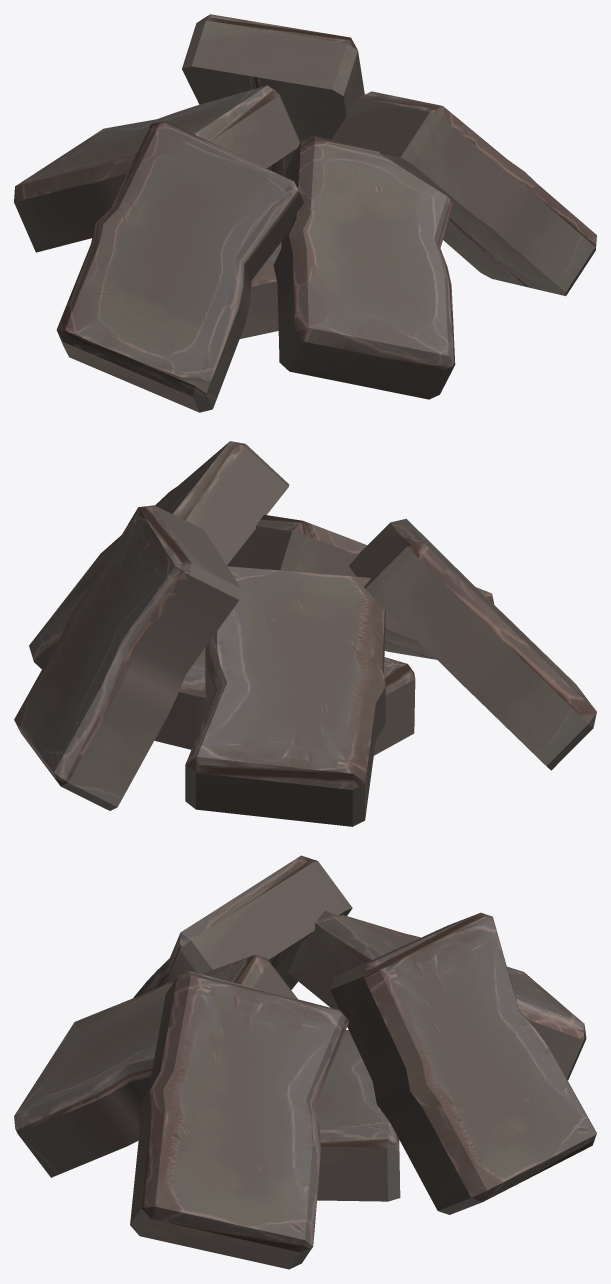
File: BrickSmallPile1.fbx
3 renders of one model, top to bottom at view 1: azimuth 30°, elevation 25°; view 2: azimuth 150°, elevation 25°; view 3: azimuth 270°, elevation 25°, orthographic. The views are drawn at different scales.
Visible parts, largest first — view 1: pCube63, pCube64, pCube67, pCube65, pCube68, pCube66; view 2: pCube65, pCube68, pCube63, pCube67, pCube64, pCube66; view 3: pCube67, pCube68, pCube64, pCube63, pCube66, pCube65.
Boxes of the visible parts, x1,y1,x2,y2 form: pCube63: [56, 120, 303, 412]; pCube64: [273, 136, 455, 399]; pCube67: [331, 91, 596, 296]; pCube65: [14, 85, 300, 252]; pCube68: [182, 14, 364, 176]; pCube66: [240, 242, 281, 338]; pCube65: [185, 566, 385, 826]; pCube68: [14, 505, 240, 810]; pCube63: [349, 518, 596, 770]; pCube67: [29, 441, 289, 668]; pCube64: [227, 514, 494, 659]; pCube66: [154, 647, 415, 755]; pCube67: [130, 971, 349, 1269]; pCube68: [330, 912, 596, 1214]; pCube64: [14, 955, 297, 1177]; pCube63: [133, 855, 352, 998]; pCube66: [314, 1030, 400, 1201]; pCube65: [288, 910, 586, 1080].
Bounding box in the file's own units: 107 × 49.31 × 102.
